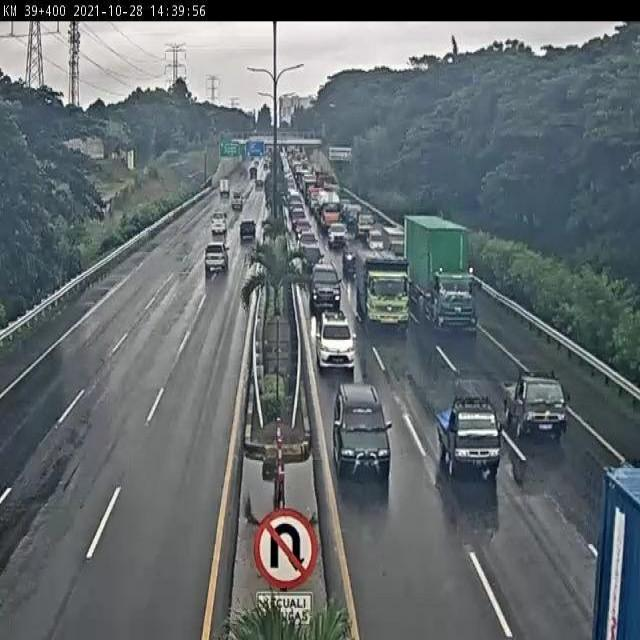big truck: (406, 212, 476, 325), (358, 250, 407, 322)
car: (332, 380, 391, 479), (436, 393, 501, 476), (501, 369, 567, 435), (314, 310, 357, 370), (309, 263, 342, 304), (203, 243, 229, 273), (344, 240, 366, 271), (299, 236, 323, 264), (384, 224, 405, 255), (355, 213, 377, 239), (366, 229, 387, 252), (208, 210, 228, 234), (329, 223, 348, 248), (238, 216, 258, 237)
